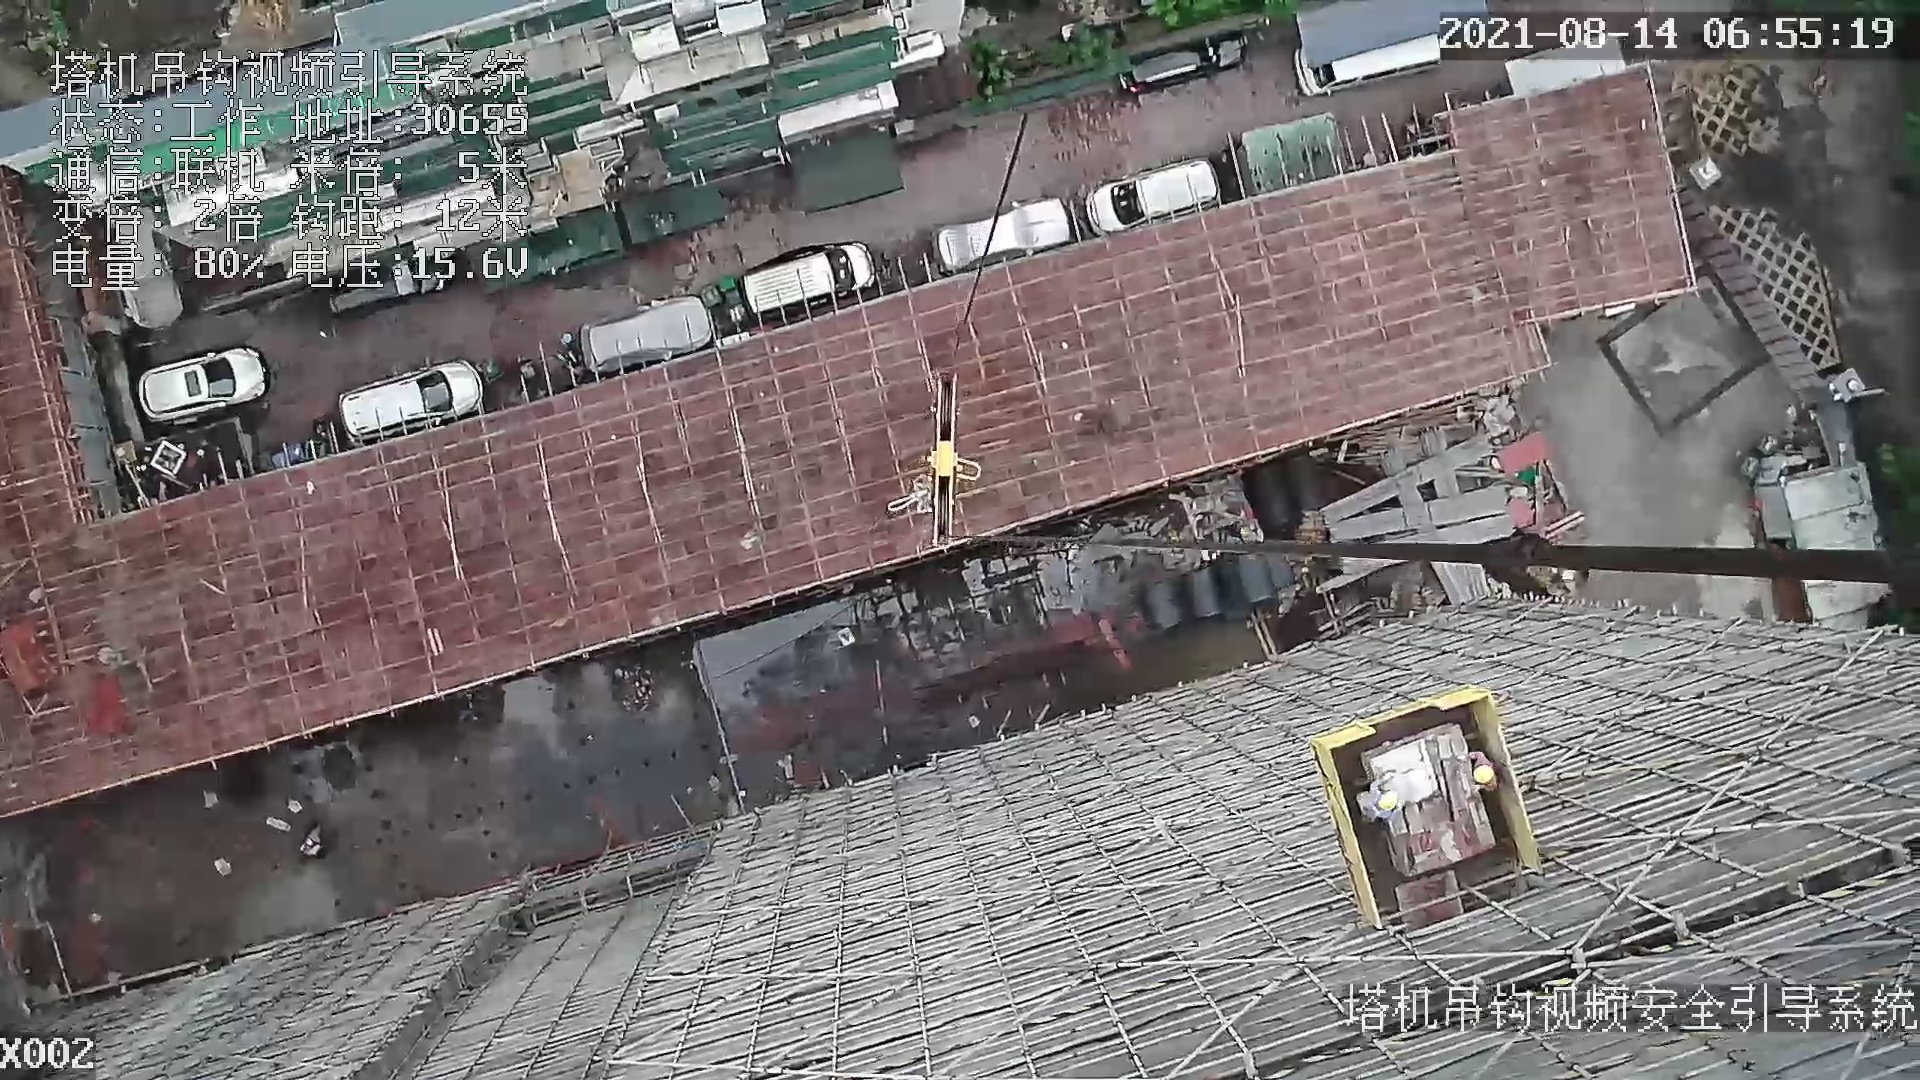board: (1361, 722, 1498, 877)
helmet: (1474, 765, 1494, 784), (1378, 791, 1398, 810)
hook: (922, 367, 979, 554)
person: (1464, 746, 1517, 806), (1355, 772, 1406, 819)
rebar: (1325, 435, 1493, 524), (1330, 484, 1509, 541), (1384, 515, 1514, 543), (1428, 563, 1471, 600), (1462, 564, 1488, 594)
